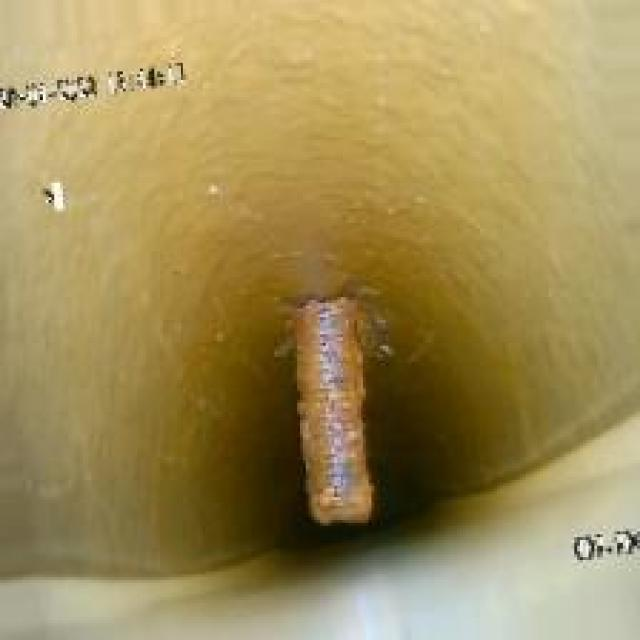ferrule: (280, 283, 397, 534)
